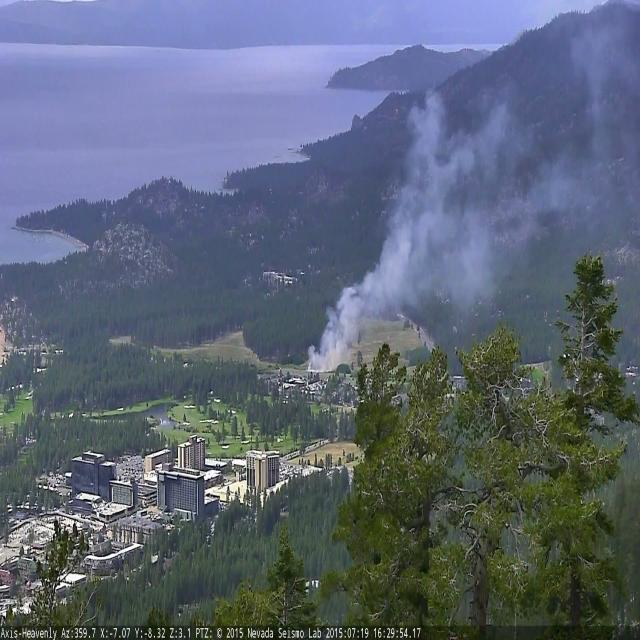smoke: (308, 95, 514, 372)
